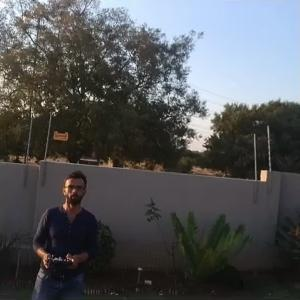follow: (27, 169, 100, 299)
